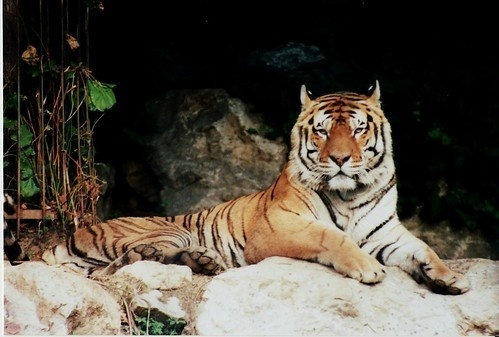tigre: (27, 74, 474, 297)
